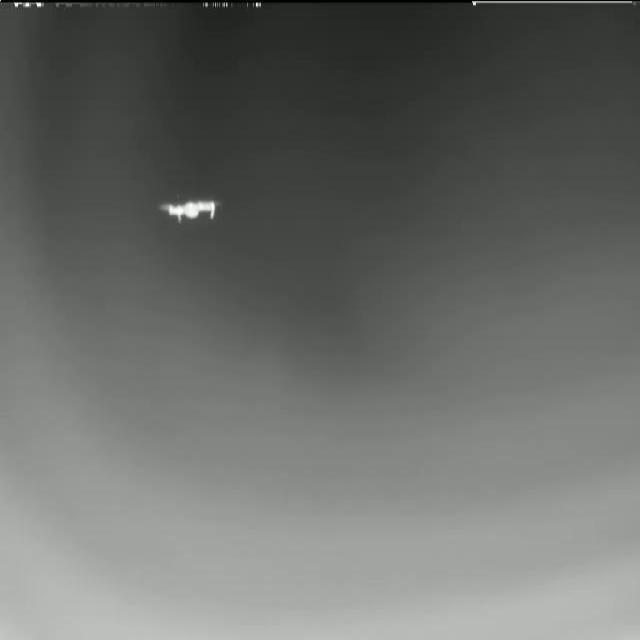DRONE: (155, 195, 225, 224)
